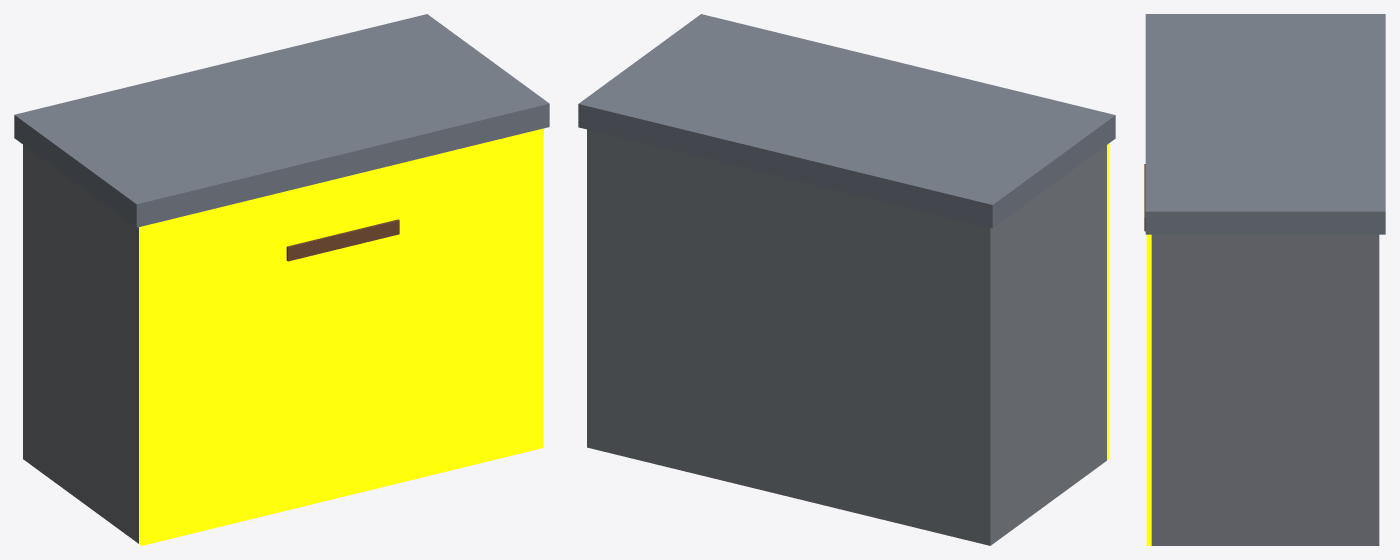
The model's file is PROP_Dumpster_Closed.glb.
3 renders of one model, left to right at view 1: azimuth 30°, elevation 25°; view 2: azimuth 150°, elevation 25°; view 3: azimuth 270°, elevation 25°, orthographic. The views are drawn at different scales.
Visible parts, largest first — view 1: PROP_Dumpster_Closed; view 2: PROP_Dumpster_Closed; view 3: PROP_Dumpster_Closed.
Part boxes in pixels (left/top/right/bottom): PROP_Dumpster_Closed: left=14, top=14, right=549, bottom=545; PROP_Dumpster_Closed: left=578, top=14, right=1115, bottom=545; PROP_Dumpster_Closed: left=1144, top=14, right=1385, bottom=545.
Bounding box in the file's own units: 1.85 × 1.47 × 0.955.
